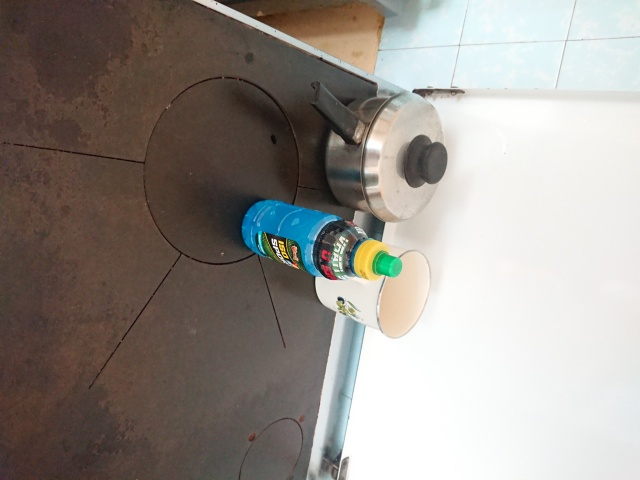Vindi Iso Sport Forest Strawberries 500mL: (239, 197, 404, 281)
